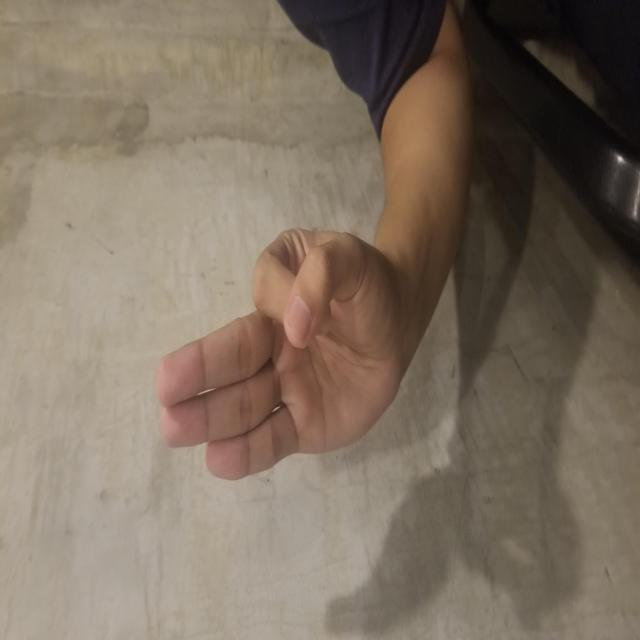F: (157, 154, 410, 404)
